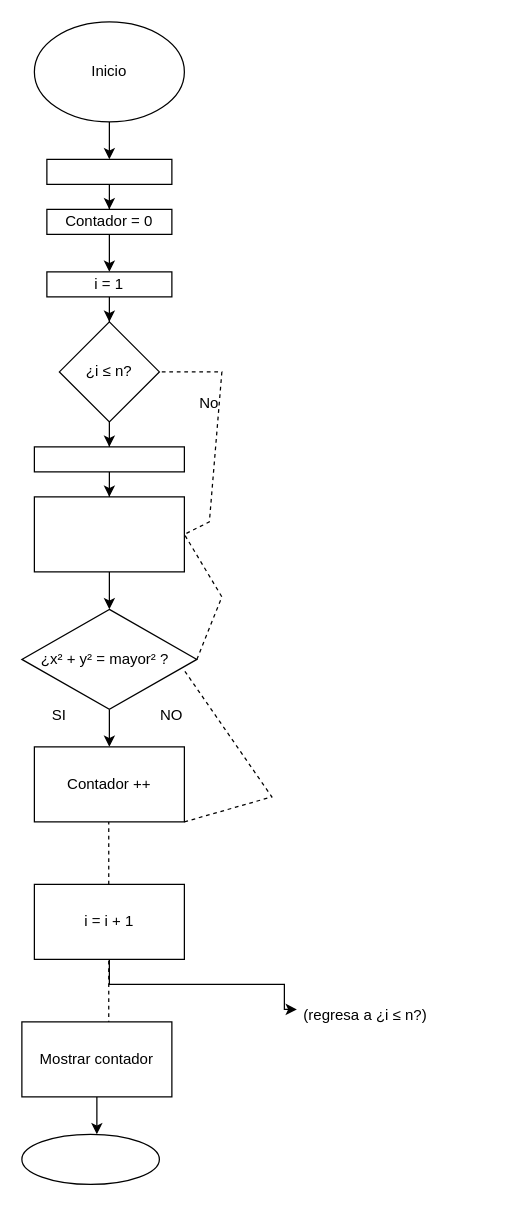
Image size: 506x1206. Some labels were removed from this diagram. The centre of each missing label's shape, as x and y in pixels:
Determinar el lado Mayor(Mayor,x,y): pixel 108 534
FIN: pixel 90 1158
Leer a,b,c: pixel 108 459
Leer n: pixel 109 171
